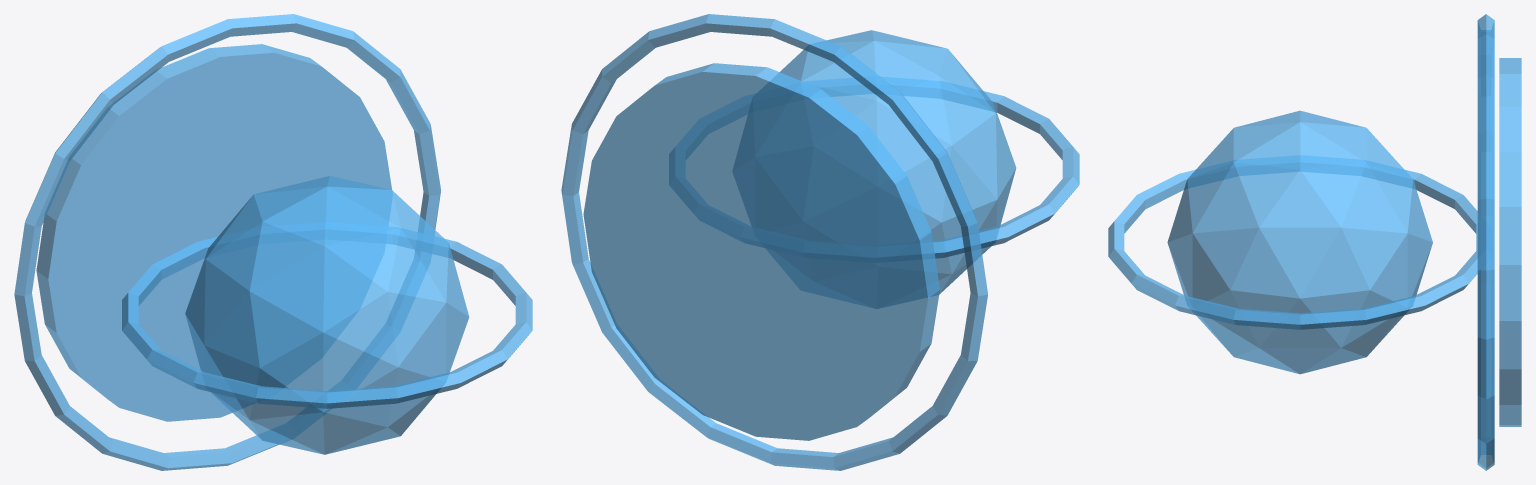
The model's file is 10_plasma_orb_projectile.glb.
The picture shows the model from 3 angles, left to right: view 1: azimuth 30°, elevation 25°; view 2: azimuth 150°, elevation 25°; view 3: azimuth 270°, elevation 25°; orthographic projection. The views are drawn at different scales.
Parts seen in each view (by area): view 1: base_disc, projectile_core, base_ring, spin_ring; view 2: base_disc, projectile_core, base_ring, spin_ring; view 3: projectile_core, spin_ring, base_disc, base_ring.
Boxes of the visible parts, x1,y1,x2,y2 form: base_disc: (36, 44, 392, 421); projectile_core: (185, 176, 469, 454); base_ring: (14, 14, 440, 470); spin_ring: (122, 222, 532, 408); base_disc: (583, 63, 939, 440); projectile_core: (733, 30, 1016, 308); base_ring: (561, 14, 987, 470); spin_ring: (669, 77, 1079, 262); projectile_core: (1167, 110, 1432, 374); spin_ring: (1108, 155, 1491, 329); base_disc: (1499, 58, 1521, 426); base_ring: (1477, 14, 1494, 470).
Size of the model in its own units: 1.04 by 1.04 by 0.9333.
